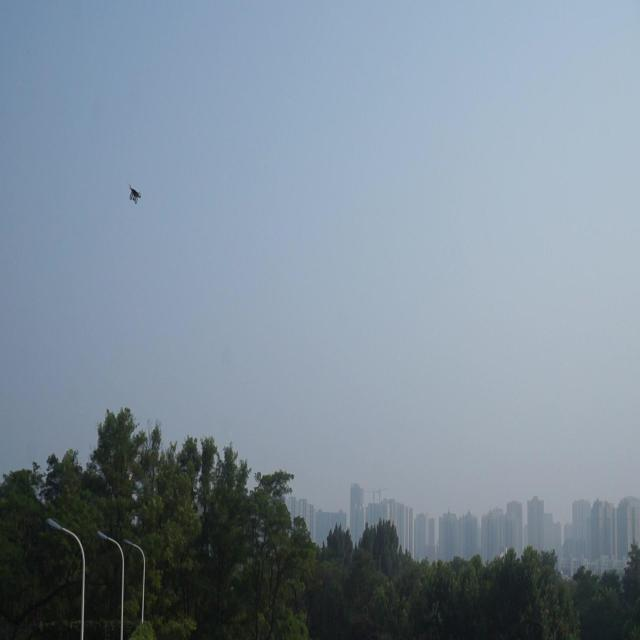drone: (127, 182, 144, 209)
